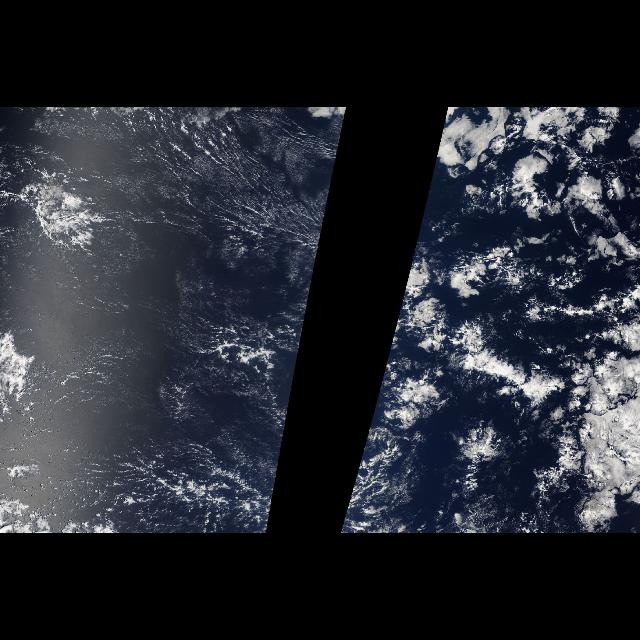Flower: (382, 111, 638, 534)
Sugar: (20, 111, 340, 534)
